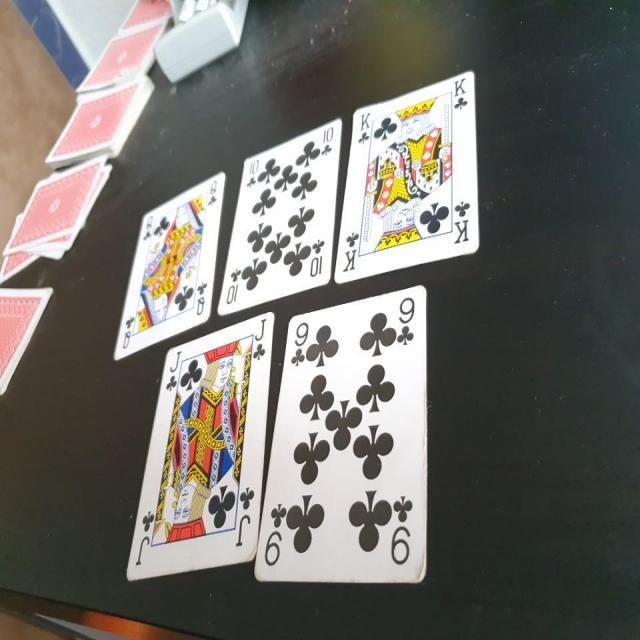10 of clubs: (218, 115, 342, 316)
9 of clubs: (252, 283, 429, 585)
jack of clubs: (125, 311, 276, 582)
king of clubs: (334, 69, 482, 288)
queen of clubs: (107, 170, 225, 366)
